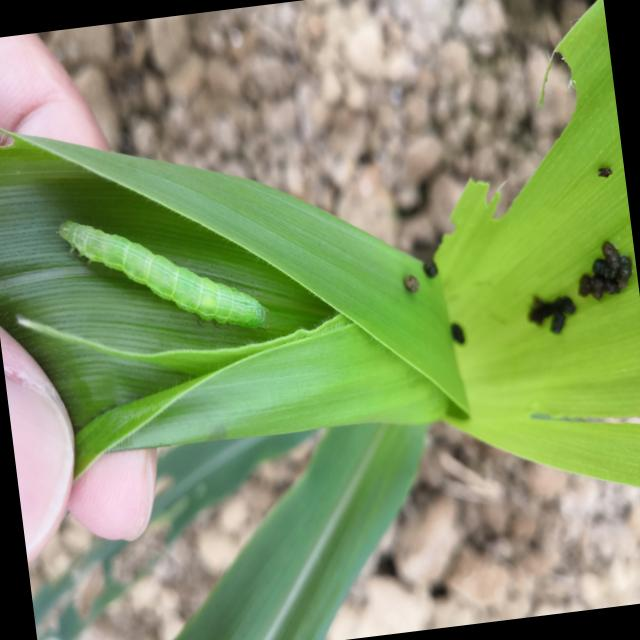pest: (60, 199, 269, 348)
